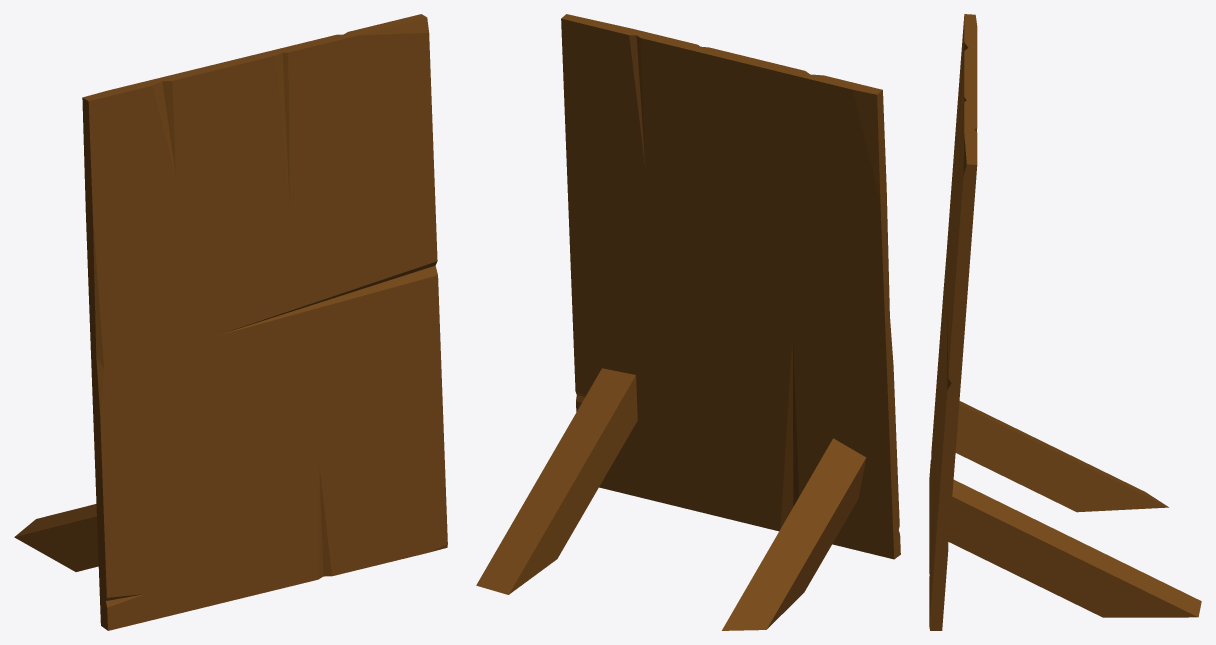
Rendered from Asian_Prop_Wooden_Fence_Barricade_02.FBX.
3 views of the same model, side by side, from view 1: azimuth 30°, elevation 25°; view 2: azimuth 150°, elevation 25°; view 3: azimuth 270°, elevation 25° (orthographic). The views are drawn at different scales.
Parts seen in each view (by area): view 1: Asian_Prop_Wooden_Fence_Barricade_02; view 2: Asian_Prop_Wooden_Fence_Barricade_02; view 3: Asian_Prop_Wooden_Fence_Barricade_02.
Boxes of the visible parts, bbox=[...] form: Asian_Prop_Wooden_Fence_Barricade_02: bbox=[14, 14, 447, 630]; Asian_Prop_Wooden_Fence_Barricade_02: bbox=[476, 14, 900, 630]; Asian_Prop_Wooden_Fence_Barricade_02: bbox=[929, 14, 1201, 630].
Size of the model in its own units: 1494 by 2165 by 1145.
